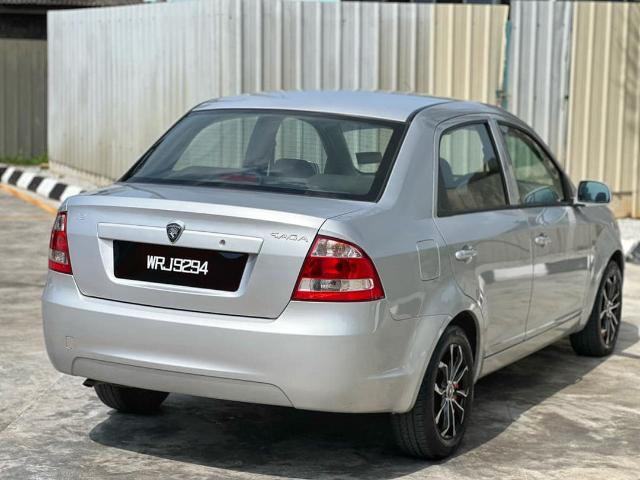License_Plate: (128, 246, 226, 287)
car: (42, 90, 640, 459)
